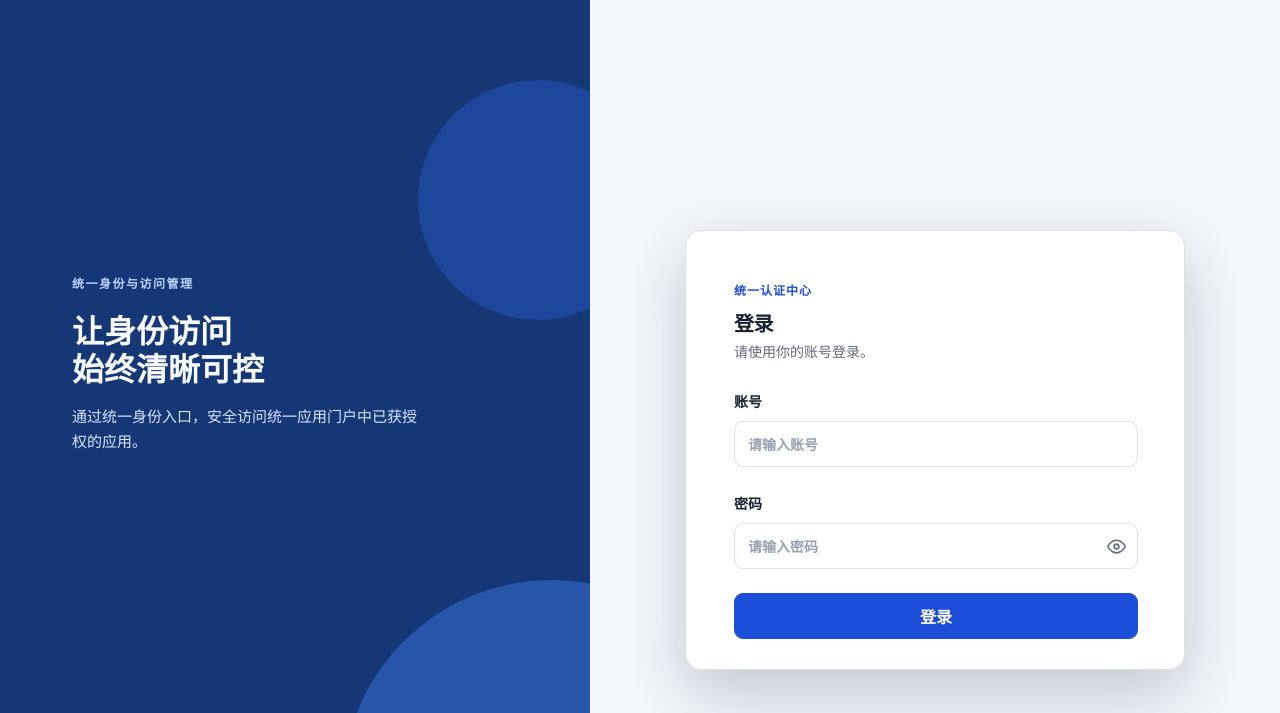
Test case: LoginView › 普通用户登录成功后进入默认 IAM 应用
Type "user" into the field labelled "账号" at [936, 444], box x1=734 y1=421 x2=1138 y2=467
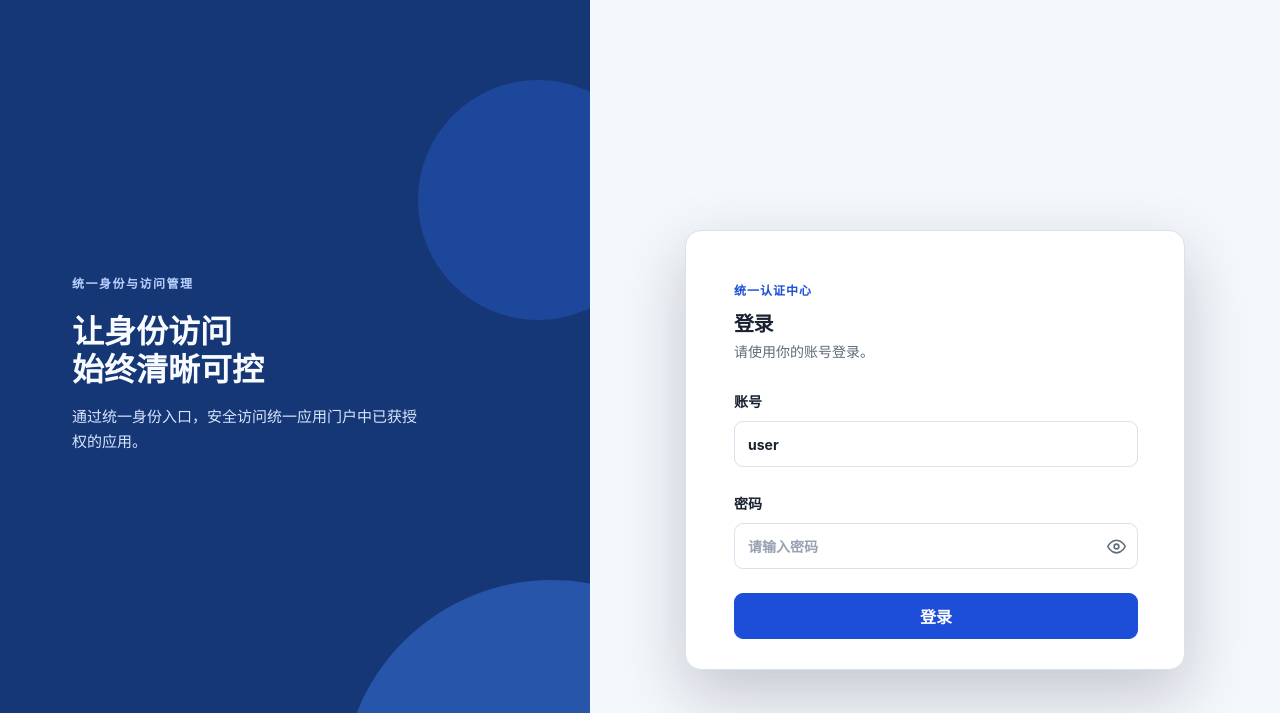
Type "User@1234" into the password field labelled "密码" at [936, 546], box x1=734 y1=523 x2=1138 y2=569
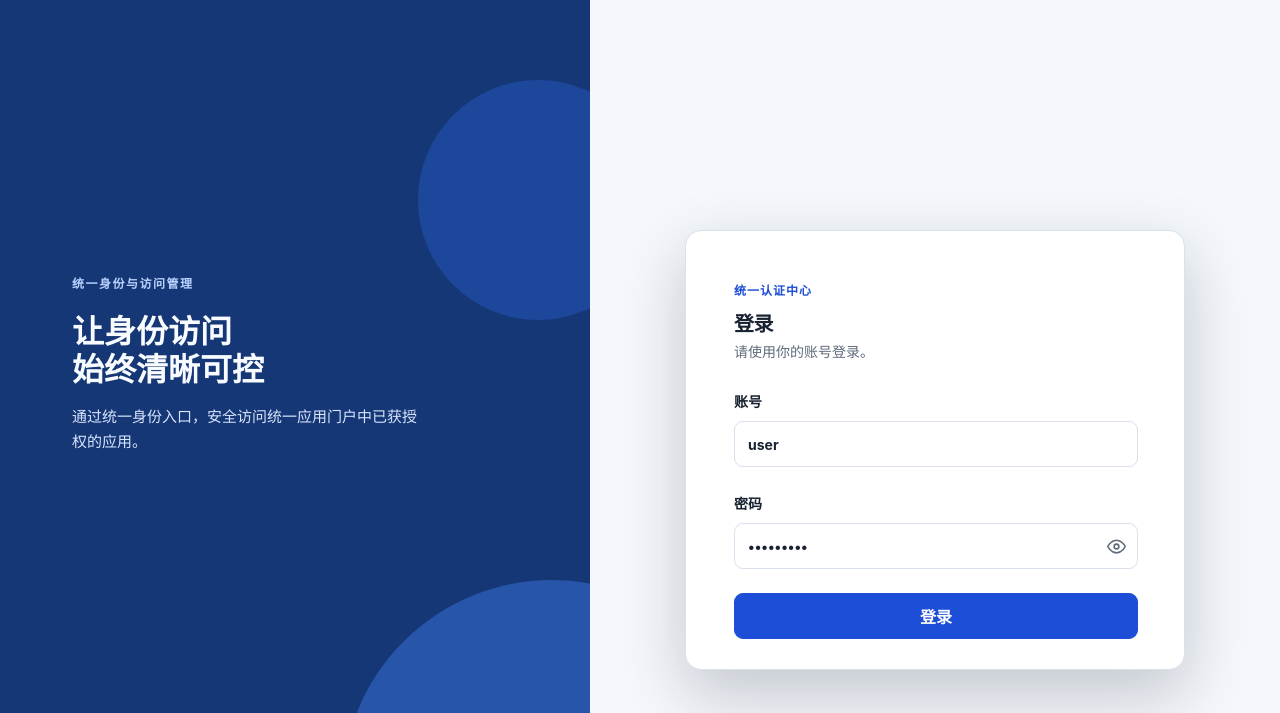
Submit the form, box x1=734 y1=393 x2=1138 y2=639
Wait 600 ms
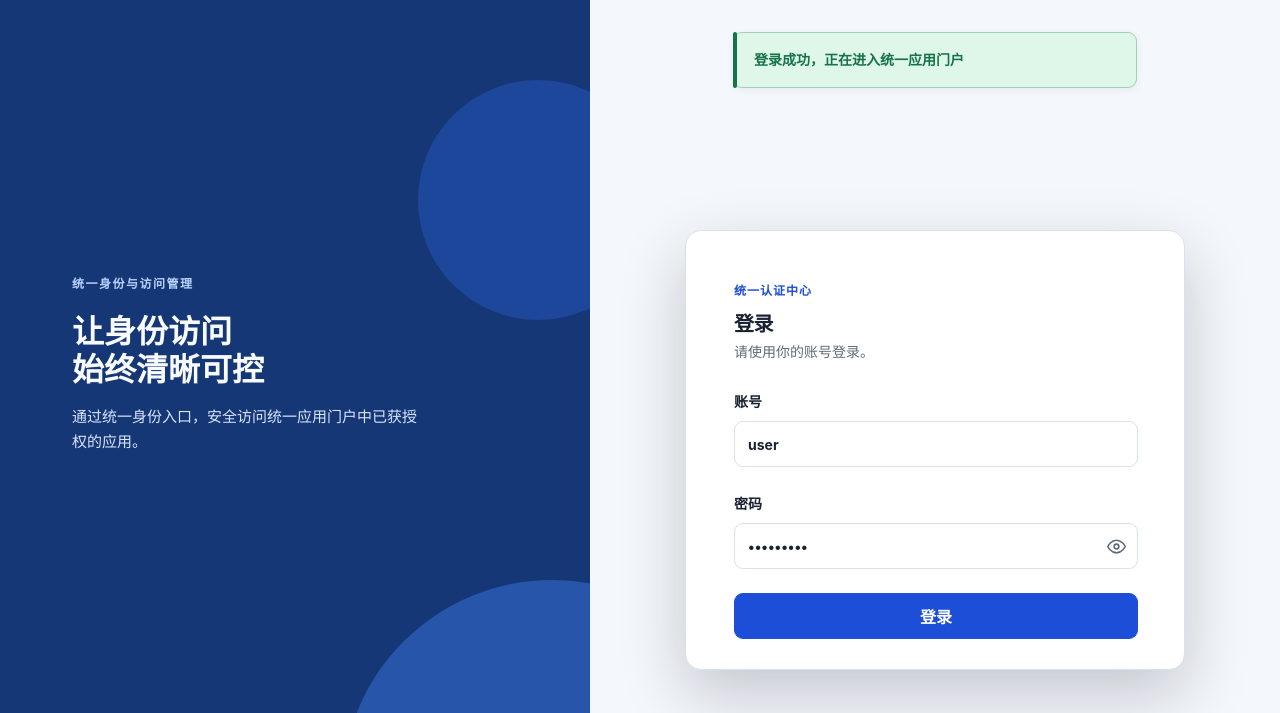
Now the text "登录成功，正在进入统一应用门户" is shown, box x1=733 y1=32 x2=1137 y2=88
